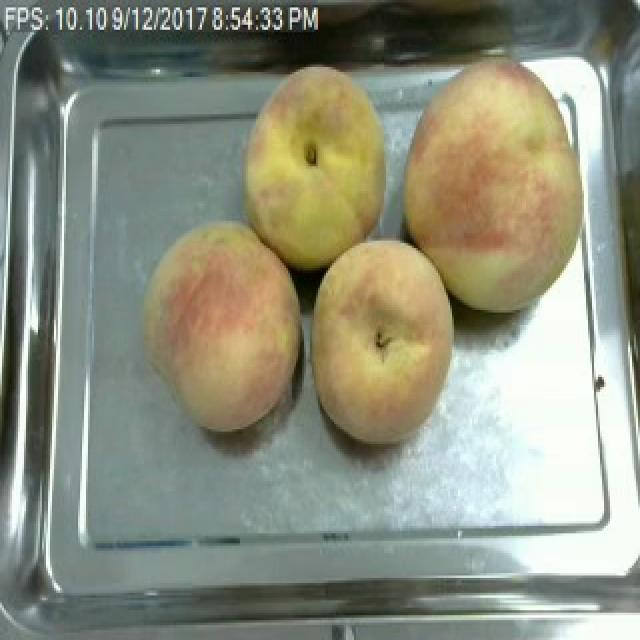Fruit: (388, 50, 604, 325), (134, 213, 312, 439), (298, 226, 468, 454), (236, 57, 400, 280)
